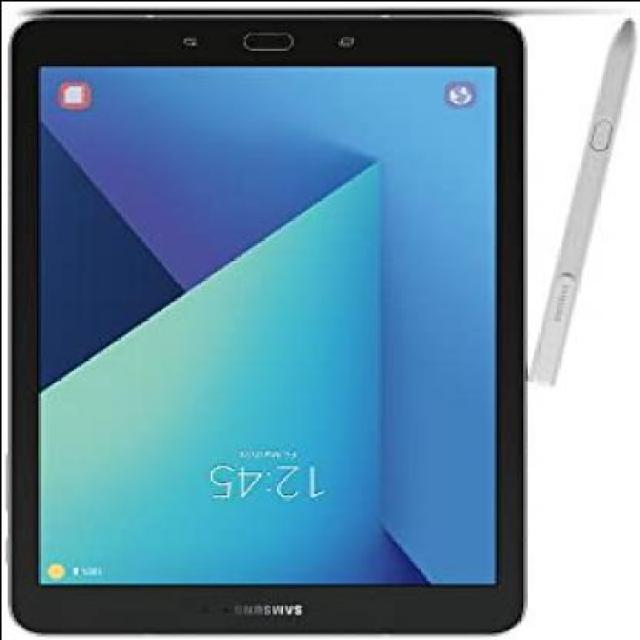tablet: (1, 19, 544, 640)
